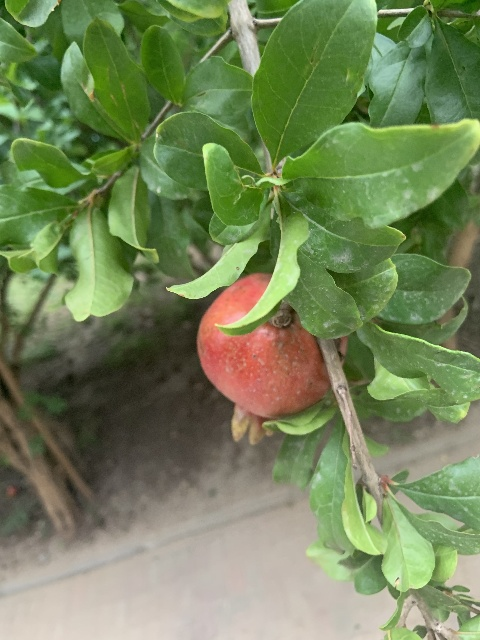ripe: (195, 271, 343, 444)
